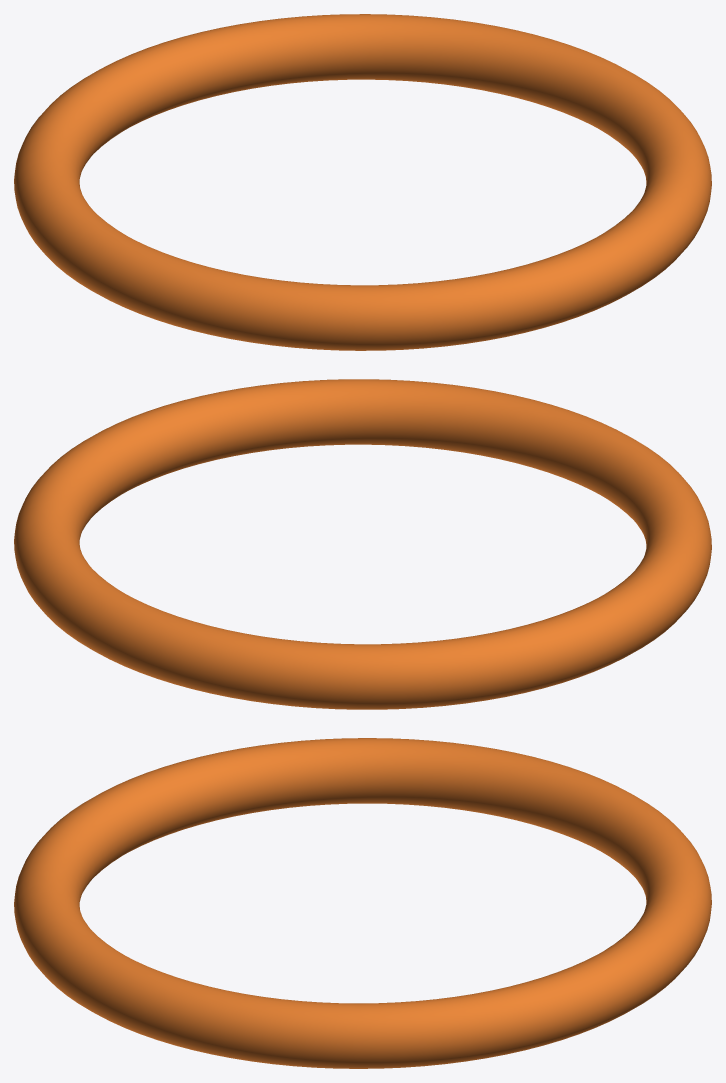
File: copperRing.gltf
The picture shows the model from 3 angles, top to bottom: view 1: azimuth 30°, elevation 25°; view 2: azimuth 150°, elevation 25°; view 3: azimuth 270°, elevation 25°; orthographic projection.
Visible parts, largest first — view 1: Torus.001; view 2: Torus.001; view 3: Torus.001.
Part boxes in pixels (box(x1,y1,x2,y2)): Torus.001: box(14, 14, 711, 350); Torus.001: box(14, 379, 711, 709); Torus.001: box(14, 738, 711, 1068).
Bounding box in the file's own units: 2.67 × 0.2681 × 2.67.
